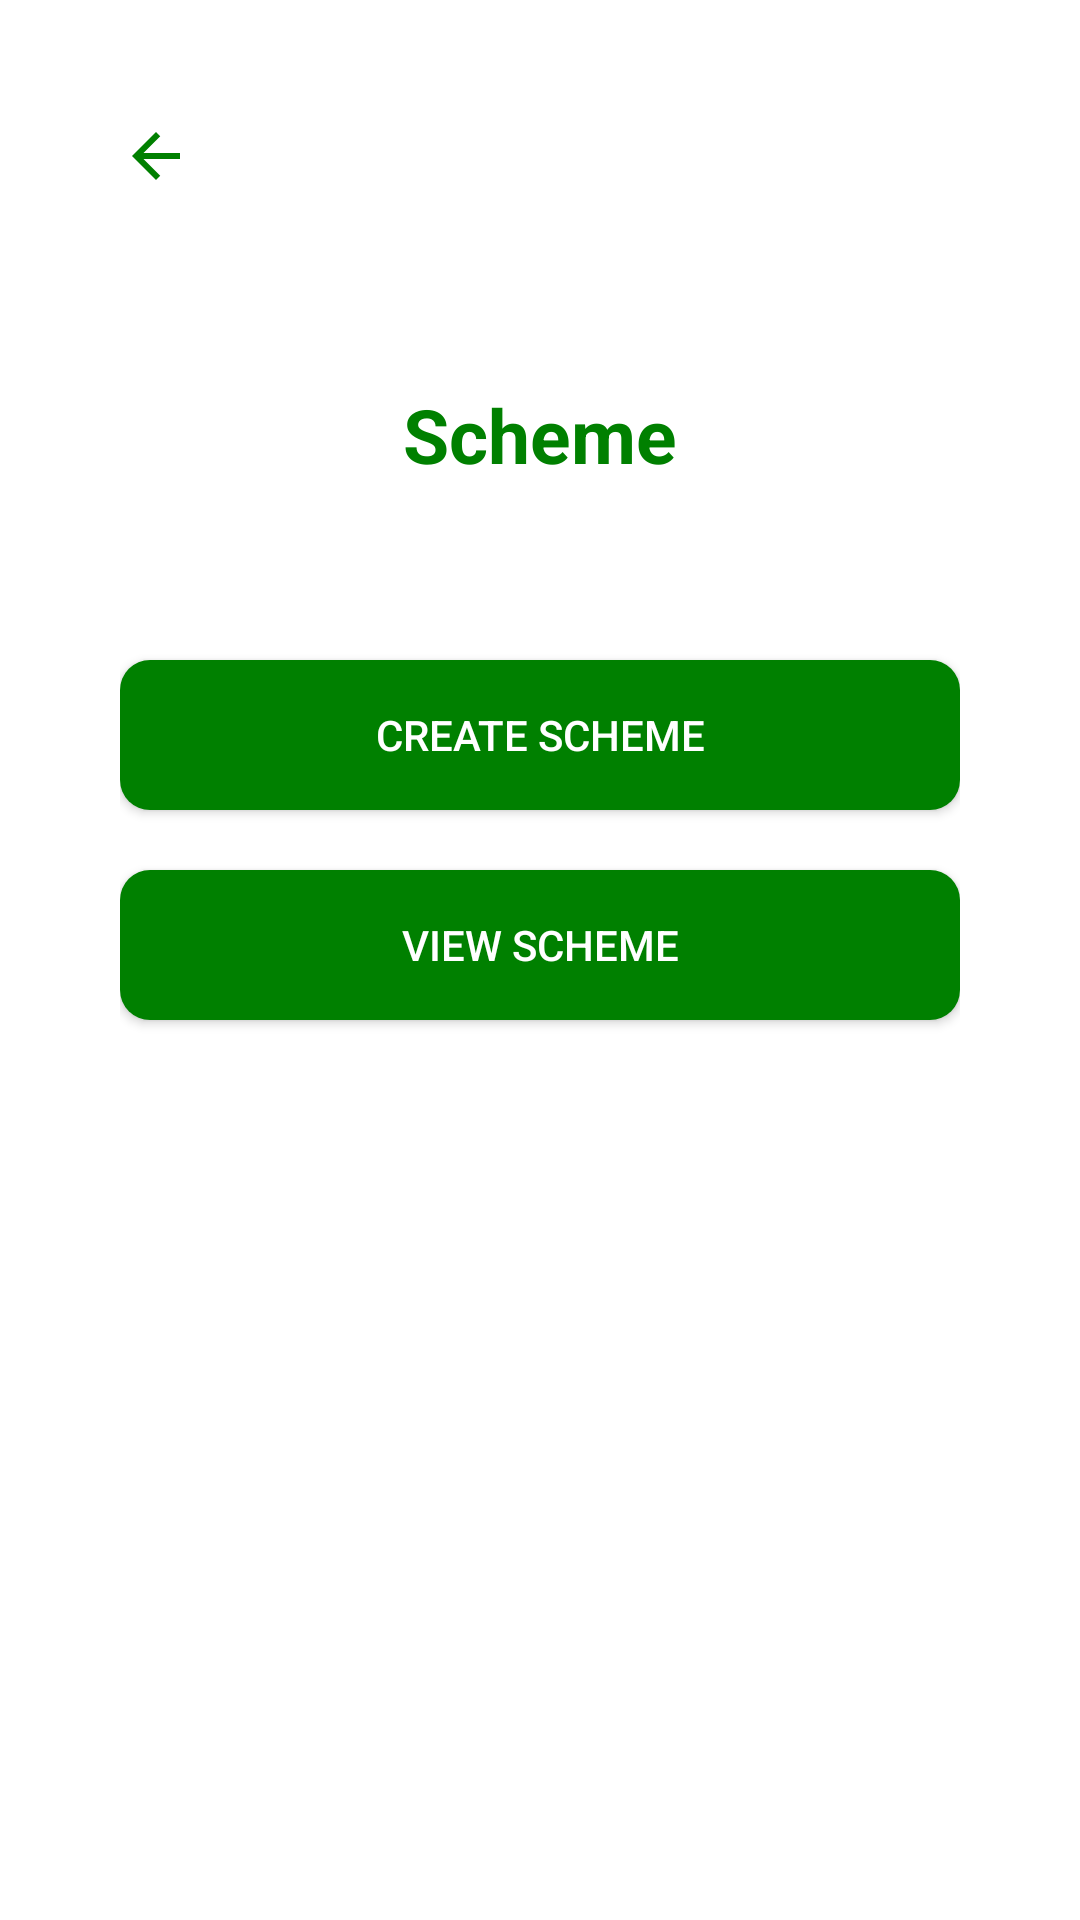

Icon click points for this 1080px×1920px phone screenshot, format (x=x, y=y):
arrow back: (x=156, y=156)
